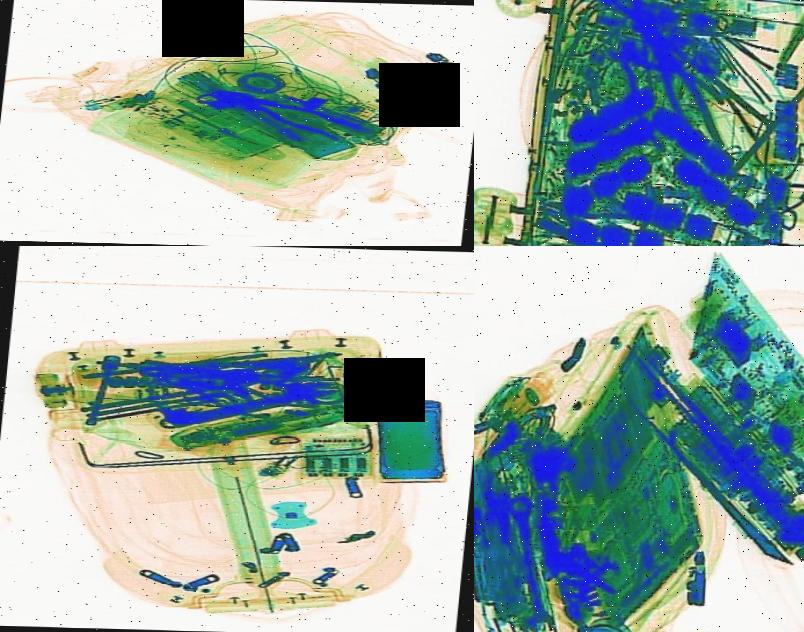Pliers: (201, 82, 374, 143), (642, 42, 732, 150)
Wrench: (156, 372, 339, 438), (495, 492, 565, 632)
